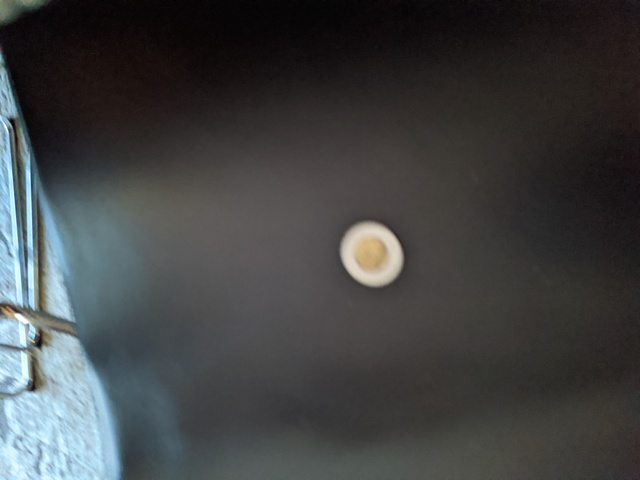twonie: (331, 212, 405, 293)
